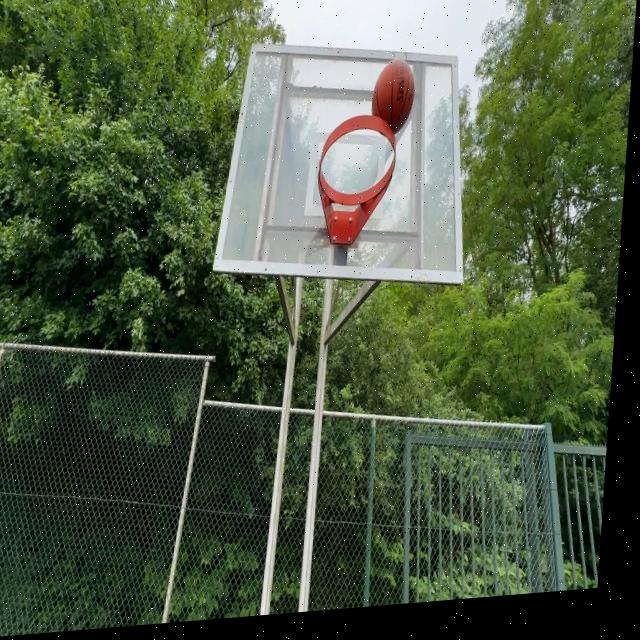rebound_hit: (368, 59, 416, 142)
